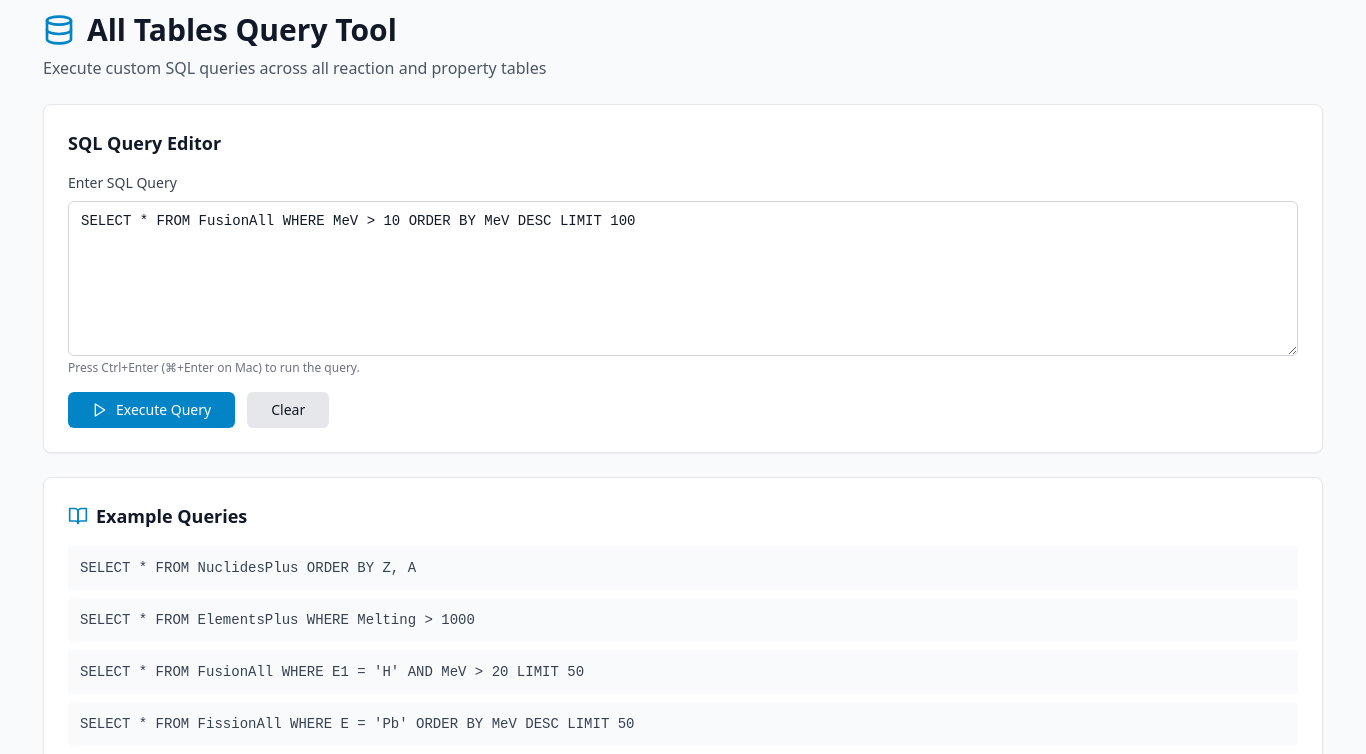
Scenario: AllTables › shows query results after execution
Click the button "Execute Query" at (152, 410), box [68,392,235,428]
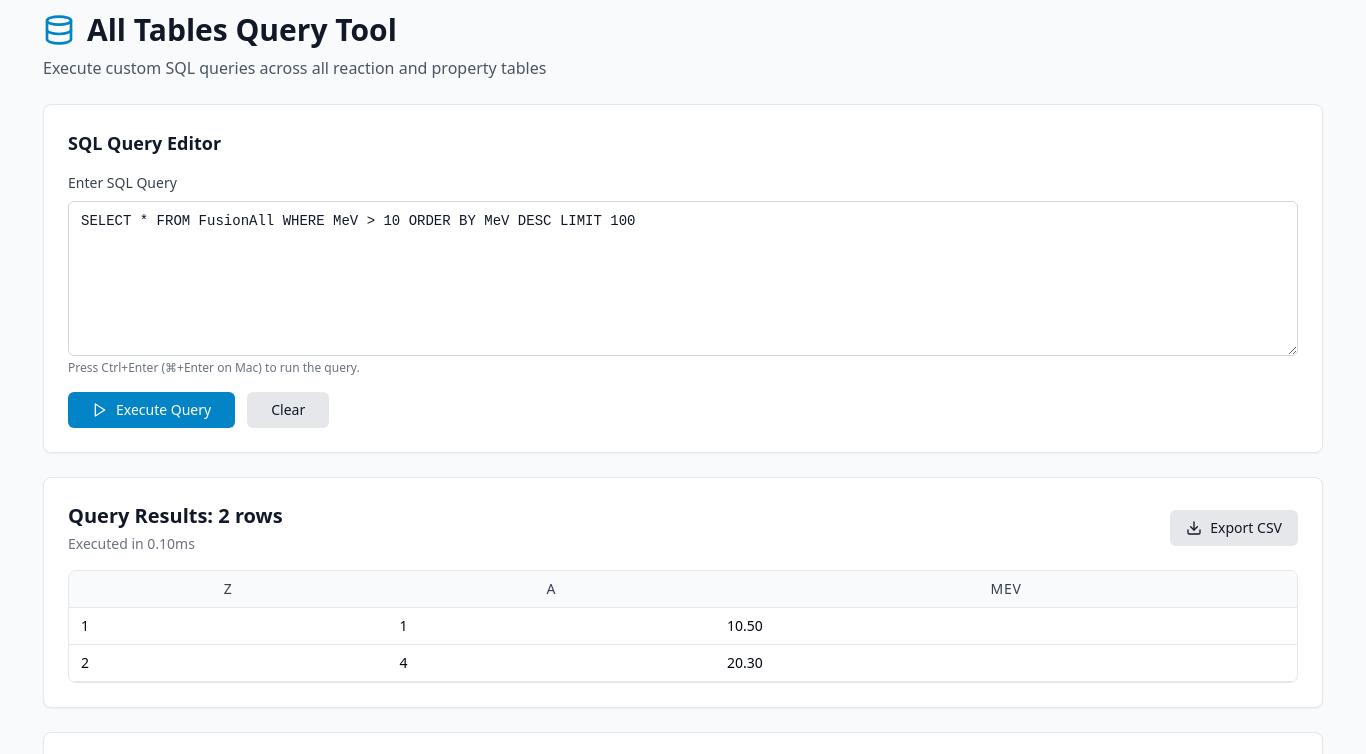
Expected: the button "Export CSV" is shown, [1170,510,1298,546]
Expected: the column heading "Z" is shown, [69,570,387,607]
Expected: the column heading "MeV" is shown, [715,570,1297,607]
